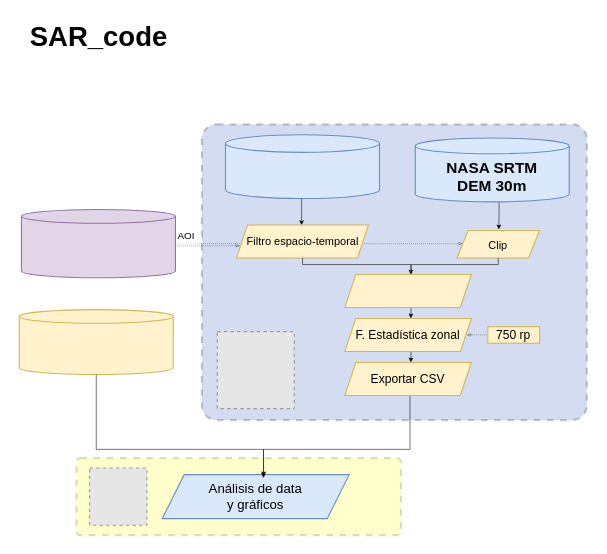
This 607x554 diagram has some shape labels left out. Grey dashed boxes stand in for pictures. The centre of each missing label's shape, as x and y in pixels:
"Agregar banda" goes at point 407,290.
"Estación meteorológica COROPUNA" goes at point 95,342.
"Inventario de glaciares INAIGEM" goes at point 97,243.
"Sentinel 1 GRD" goes at point 302,166.
